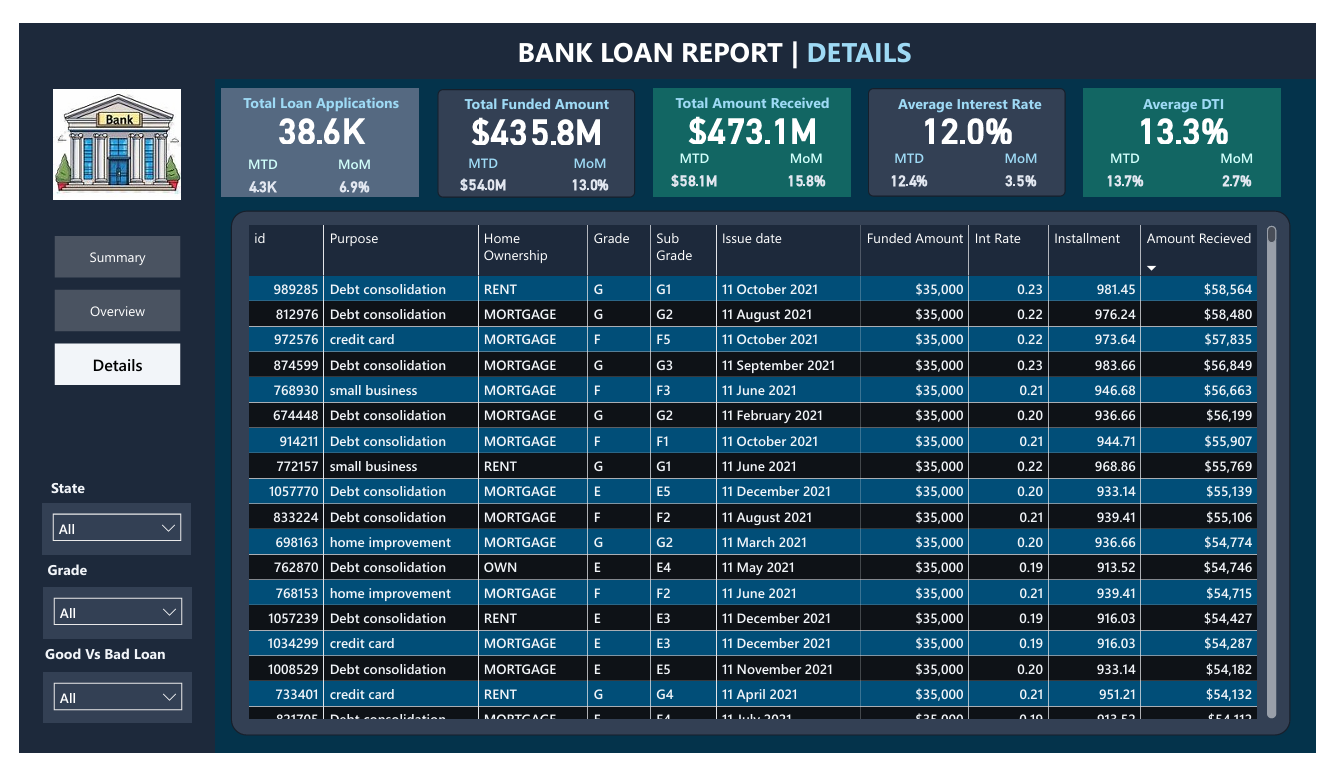

The page's visual inventory and layout, read from the dashboard file:
{"tool":"powerbi","page":{"name":"Details","canvas":[1280,720],"ordinal":2},"visuals":[{"type":"shape","box":[0,0,1280,55],"z":0},{"type":"shape","box":[0,55.5,193,664.7],"z":1000},{"type":"shape","box":[200.3,63.9,195.4,107.4],"z":1000,"group":"g1"},{"type":"shape","box":[625.5,63.9,195.4,107.4],"z":1000,"group":"g3"},{"type":"shape","box":[838.2,63.9,195.4,107.4],"z":1000,"group":"g4"},{"type":"shape","box":[1050.8,63.9,195.4,107.4],"z":1000,"group":"g5"},{"type":"shape","box":[412.9,65.1,195.4,107.4],"z":1000,"group":"g2"},{"type":"textbox","box":[434.9,3.9,503.1,47.6],"z":2000},{"type":"group","id":"g1","title":"Group 1","box":[200.3,63.9,195.4,107.4],"z":3000},{"type":"group","id":"g2","title":"Group 1","box":[412.9,65.1,195.4,107.4],"z":4000},{"type":"card","fields":{"Values":["bank_loan_data.Total Loan Applications"]},"box":[226.8,83.2,142.4,41],"z":4000,"group":"g1"},{"type":"card","fields":{"Values":["bank_loan_data.Total Amount Recieved"]},"box":[652,83.2,142.4,41],"z":4000,"group":"g3"},{"type":"card","fields":{"Values":["bank_loan_data.Average Interest Rate"]},"box":[864.7,83.2,142.4,41],"z":4000,"group":"g4"},{"type":"card","fields":{"Values":["bank_loan_data.Average DTI"]},"box":[1077.3,83.2,142.4,41],"z":4000,"group":"g5"},{"type":"card","fields":{"Values":["bank_loan_data.Total Funded Amount"]},"box":[439.4,84.4,142.4,41],"z":4000,"group":"g2"},{"type":"textbox","box":[208.7,63.9,179.8,38.6],"z":5000,"group":"g1"},{"type":"textbox","box":[633.9,63.9,179.8,38.6],"z":5000,"group":"g3"},{"type":"textbox","box":[421.3,65.1,179.8,38.6],"z":5000,"group":"g2"},{"type":"textbox","box":[850.8,65.3,175,45],"z":5000,"group":"g4"},{"type":"textbox","box":[1060.1,65.3,178.9,45],"z":5000,"group":"g5"},{"type":"shape","box":[208.7,184.6,1046,518.8],"z":5000},{"type":"group","id":"g3","title":"Group 1","box":[625.5,63.9,195.4,107.4],"z":6000},{"type":"card","title":"MTD","fields":{"Values":["bank_loan_data.MTD Total Amount Recieved"]},"box":[634.8,124,62.7,47.1],"z":6000,"group":"g3"},{"type":"card","title":"MTD","fields":{"Values":["bank_loan_data.MTD Average Interest Rate"]},"box":[847.5,124,62.7,47.1],"z":6000,"group":"g4"},{"type":"card","title":"MTD","fields":{"Values":["bank_loan_data.MTD Average DTI"]},"box":[1060.1,124,62.7,47.1],"z":6000,"group":"g5"},{"type":"card","title":"MTD","fields":{"Values":["bank_loan_data.MTD Funded Amount"]},"box":[416.9,129.2,82.3,42.5],"z":6000,"group":"g2"},{"type":"card","title":"MTD","fields":{"Values":["bank_loan_data.MTD Loan Applivations"]},"box":[209,129.6,63,41.2],"z":6000,"group":"g1"},{"type":"group","id":"g4","title":"Group 1","box":[838.2,63.9,195.4,107.4],"z":7000},{"type":"card","title":"MoM","fields":{"Values":["bank_loan_data.MoM Total Amount Recieved"]},"box":[748.2,124,56.7,47.1],"z":7000,"group":"g3"},{"type":"card","title":"MoM","fields":{"Values":["bank_loan_data.MoM Average Interest Rate"]},"box":[960.9,124,56.7,47.1],"z":7000,"group":"g4"},{"type":"card","title":"MoM","fields":{"Values":["bank_loan_data.MoM Average DTI"]},"box":[1173.5,124,56.7,47.1],"z":7000,"group":"g5"},{"type":"card","title":"MoM","fields":{"Values":["bank_loan_data.MoM Total Funded Amount"]},"box":[521.1,129.2,84.9,42.5],"z":7000,"group":"g2"},{"type":"card","title":"MoM","fields":{"Values":["bank_loan_data.MoM Loan Applications"]},"box":[293.9,129.6,74.6,41.2],"z":7000,"group":"g1"},{"type":"group","id":"g5","title":"Group 1","box":[1050.8,63.9,195.4,107.4],"z":8000},{"type":"slicer","fields":{"Values":["bank_loan_data.address_state"]},"box":[22.9,474.1,147.2,50.7],"z":9000},{"type":"textbox","box":[3.6,444,88.1,30.2],"z":10000},{"type":"slicer","fields":{"Values":["bank_loan_data.grade"]},"box":[24.1,557.4,147.2,50.7],"z":11000},{"type":"textbox","box":[7.2,524.8,80.8,32.6],"z":12000},{"type":"slicer","fields":{"Values":["bank_loan_data.Good Vs Bad Loan"]},"box":[23.8,641.2,147.5,50],"z":13000},{"type":"textbox","box":[0,608,170.1,29],"z":14000},{"type":"tableEx","fields":{"Values":["bank_loan_data.id","bank_loan_data.purpose","bank_loan_data.home_ownership","bank_loan_data.grade","bank_loan_data.sub_grade","bank_loan_data.issue_date","bank_loan_data.Total Funded Amount","Sum(bank_loan_data.int_rate)","Sum(bank_loan_data.installment)","bank_loan_data.Total Amount Recieved"]},"box":[220.8,195.4,1025.5,495.8],"z":17000},{"type":"image","box":[33.8,57.9,126.7,123.1],"z":17001},{"type":"pageNavigator","box":[33.8,208.7,126.7,150.8],"z":17002}]}

Visuals, with their boxes on the page's 1280x720 design canvas (x1, y1, x2, y2). These are canvas units, not pixel positions in the 1328x776 screenshot, which may show the page scaled, cropped or inside an application window:
shape: region(0, 0, 1280, 55)
shape: region(0, 56, 193, 720)
shape: region(200, 64, 396, 171)
shape: region(626, 64, 821, 171)
shape: region(838, 64, 1034, 171)
shape: region(1051, 64, 1246, 171)
shape: region(413, 65, 608, 172)
textbox: region(435, 4, 938, 52)
"Group 1" group: region(200, 64, 396, 171)
"Group 1" group: region(413, 65, 608, 172)
card - bank_loan_data.Total Loan Applications: region(227, 83, 369, 124)
card - bank_loan_data.Total Amount Recieved: region(652, 83, 794, 124)
card - bank_loan_data.Average Interest Rate: region(865, 83, 1007, 124)
card - bank_loan_data.Average DTI: region(1077, 83, 1220, 124)
card - bank_loan_data.Total Funded Amount: region(439, 84, 582, 125)
textbox: region(209, 64, 388, 102)
textbox: region(634, 64, 814, 102)
textbox: region(421, 65, 601, 104)
textbox: region(851, 65, 1026, 110)
textbox: region(1060, 65, 1239, 110)
shape: region(209, 185, 1255, 703)
"Group 1" group: region(626, 64, 821, 171)
"MTD" card: region(635, 124, 698, 171)
"MTD" card: region(848, 124, 910, 171)
"MTD" card: region(1060, 124, 1123, 171)
"MTD" card: region(417, 129, 499, 172)
"MTD" card: region(209, 130, 272, 171)
"Group 1" group: region(838, 64, 1034, 171)
"MoM" card: region(748, 124, 805, 171)
"MoM" card: region(961, 124, 1018, 171)
"MoM" card: region(1174, 124, 1230, 171)
"MoM" card: region(521, 129, 606, 172)
"MoM" card: region(294, 130, 368, 171)
"Group 1" group: region(1051, 64, 1246, 171)
slicer - bank_loan_data.address_state: region(23, 474, 170, 525)
textbox: region(4, 444, 92, 474)
slicer - bank_loan_data.grade: region(24, 557, 171, 608)
textbox: region(7, 525, 88, 557)
slicer - bank_loan_data.Good Vs Bad Loan: region(24, 641, 171, 691)
textbox: region(0, 608, 170, 637)
tableEx - bank_loan_data.id x bank_loan_data.purpose: region(221, 195, 1246, 691)
image: region(34, 58, 160, 181)
pageNavigator: region(34, 209, 160, 360)
